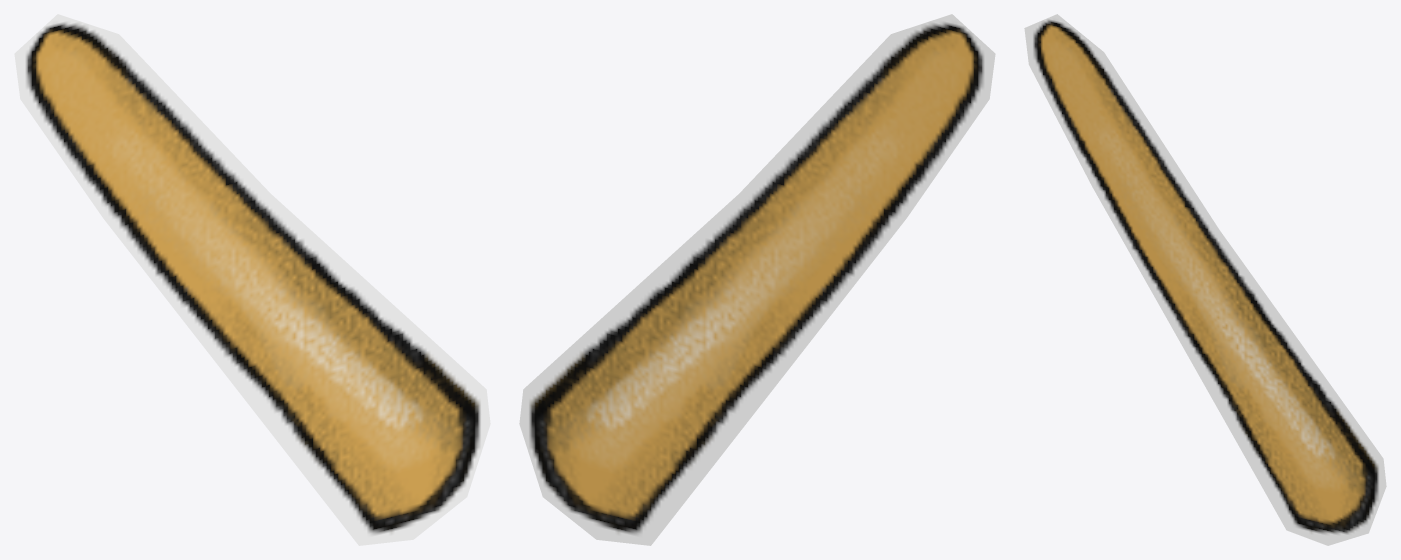
The model's file is pistala_1.glb.
The picture shows the model from 3 angles, left to right: view 1: azimuth 30°, elevation 25°; view 2: azimuth 150°, elevation 25°; view 3: azimuth 330°, elevation 25°; orthographic projection. The views are drawn at different scales.
Visible parts, largest first — view 1: Plane.015; view 2: Plane.015; view 3: Plane.015.
Boxes of the visible parts, x1,y1,x2,y2 form: Plane.015: (14,14,490,545); Plane.015: (519,14,995,545); Plane.015: (1024,14,1386,545).
Bounding box in the file's own units: 3.21 × 3.94 × 0.
Materials: 1 (1 with a texture image).
